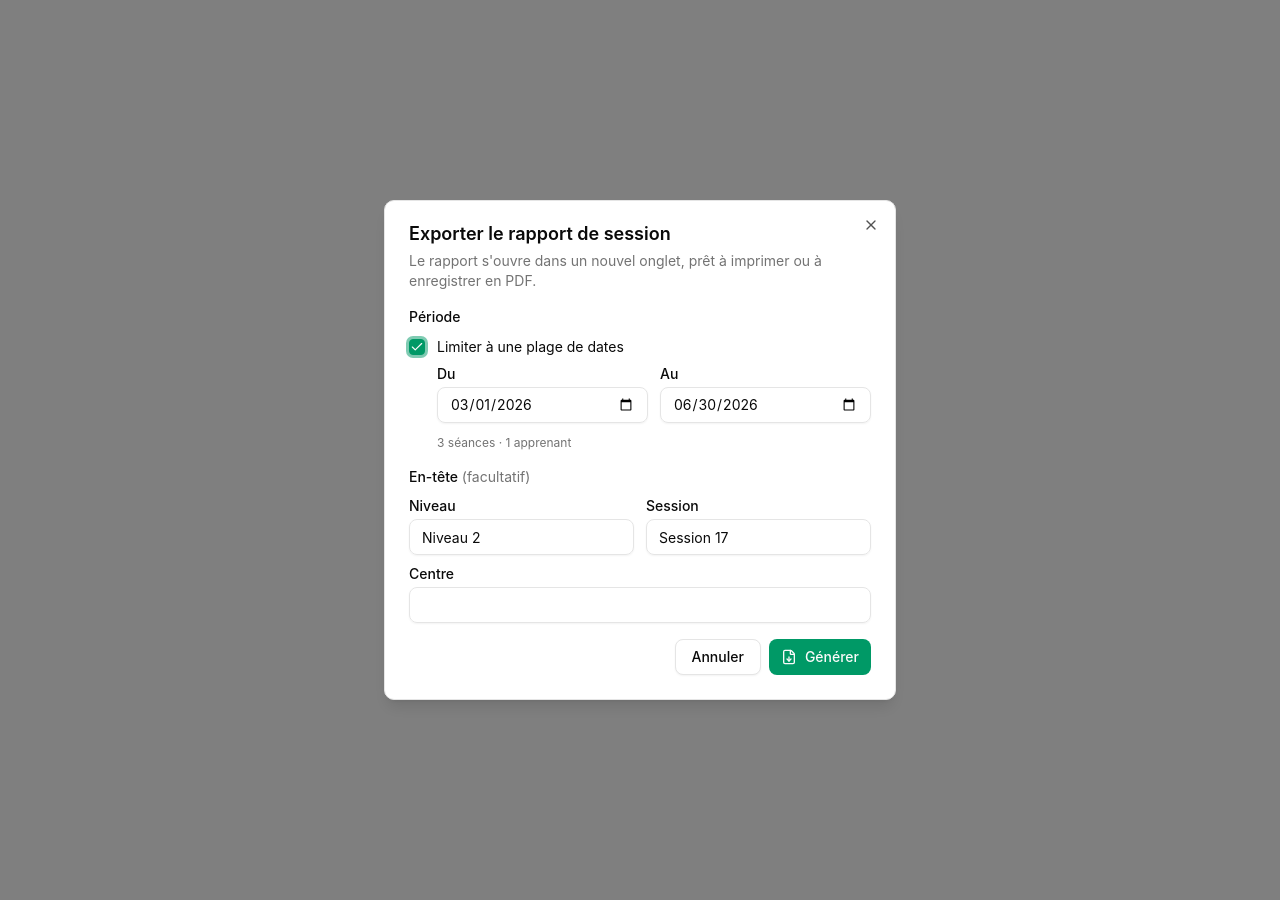
ExportRapportDialog — pré-remplissage depuis la session › reste modifiable : ce sont des propositions
Clear the field labelled "Niveau" at (522, 537), box [409,519,634,555]
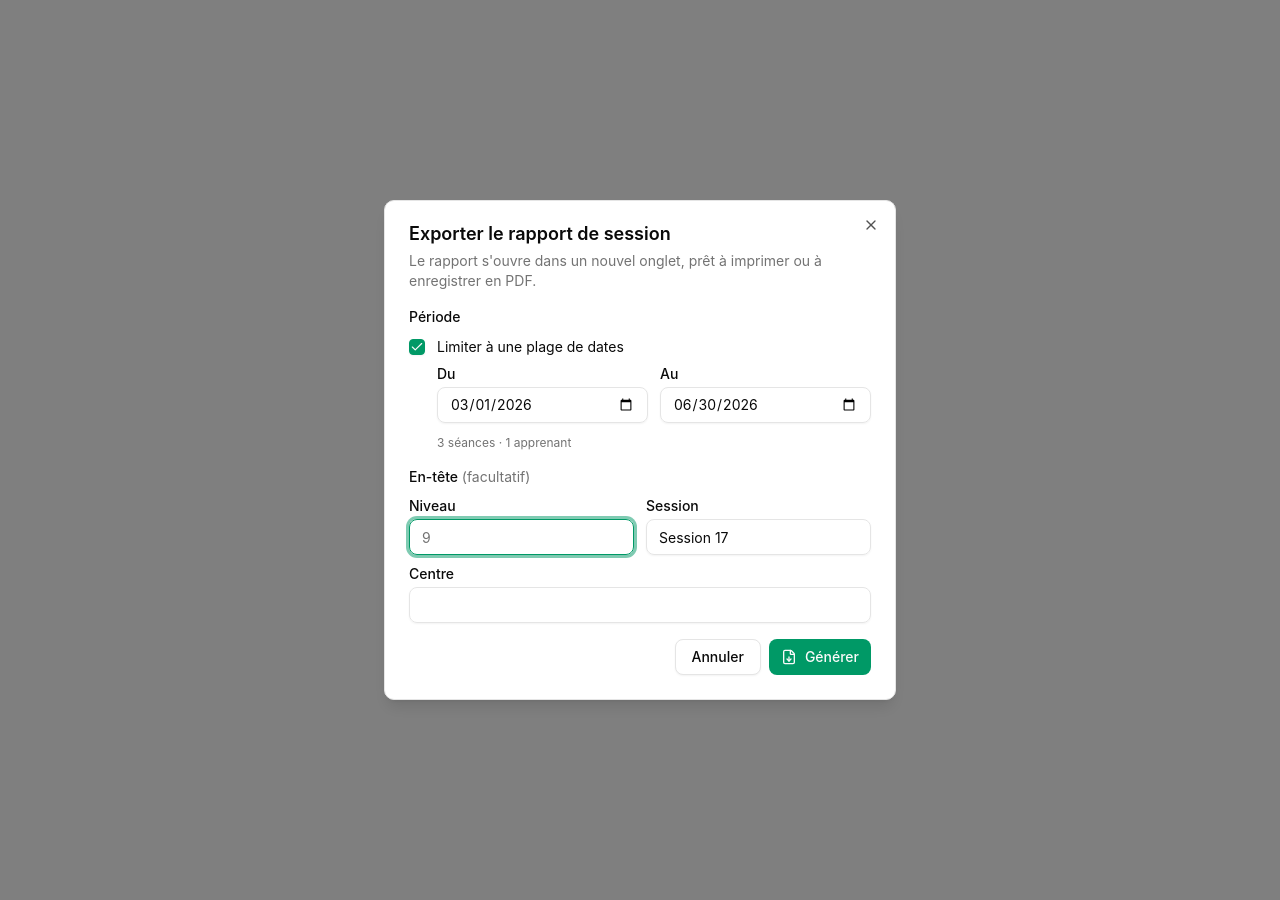
// Et le champ vidé le RESTE : aucun effet ne vient le réécrire.
Type " bis" into the field labelled "Session".
click(758, 537); type(" bis")  # box [646,519,871,555]
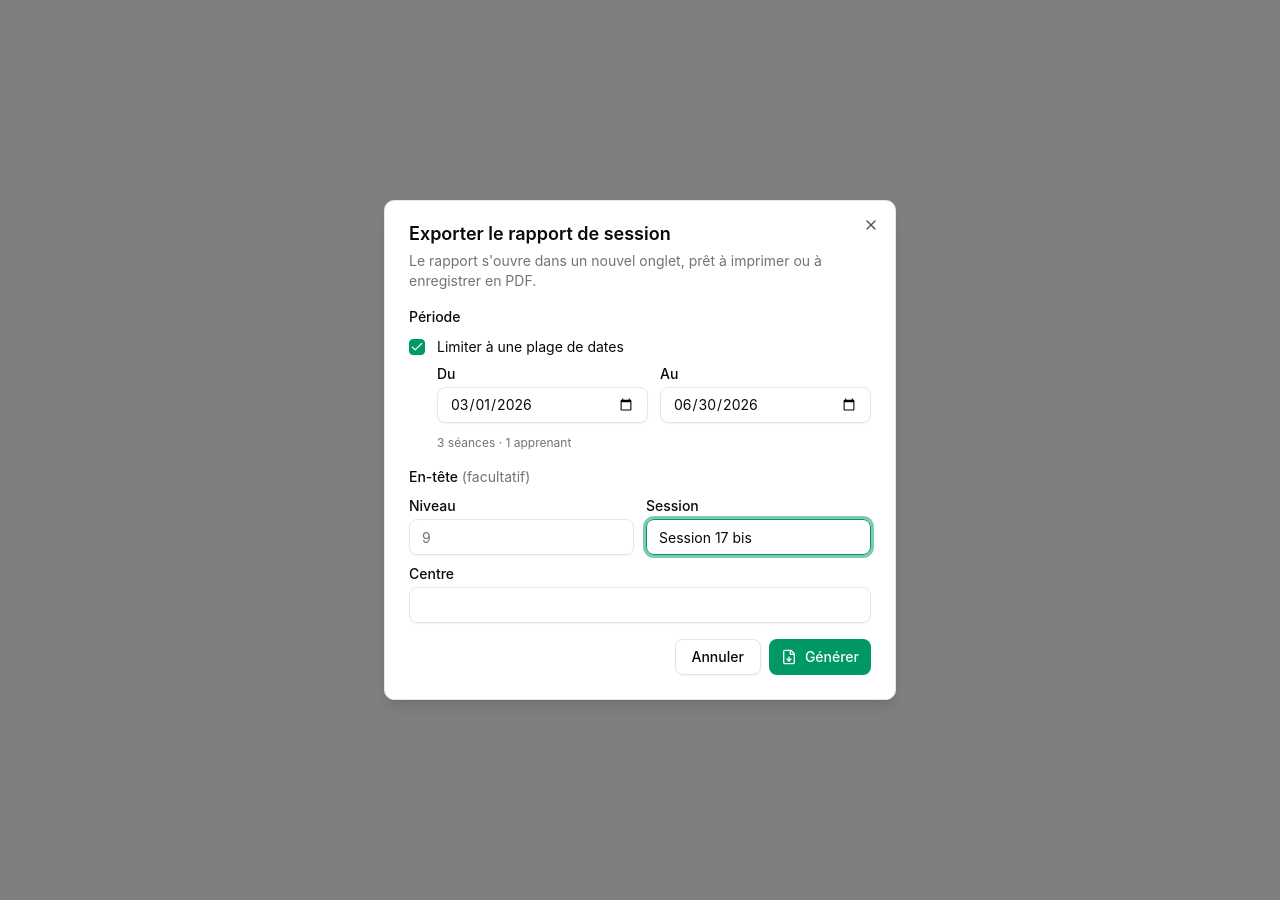
Expected: the field labelled "Session" holds "Session 17 bis", [646,519,871,555]
